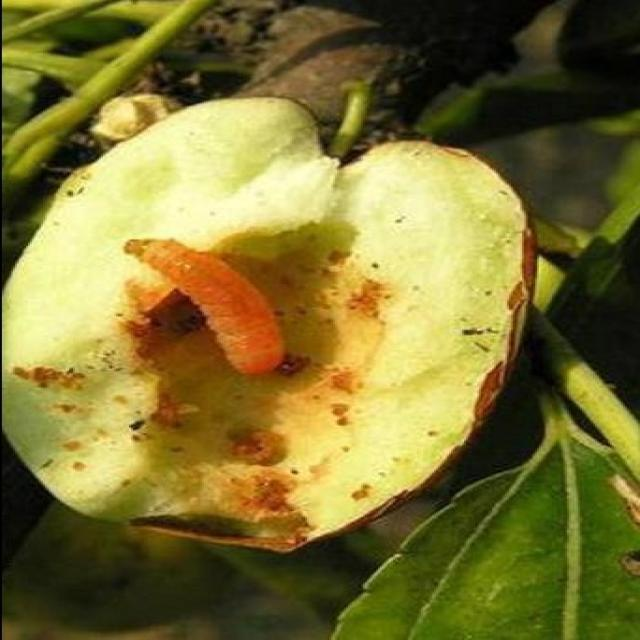peach borer: (105, 237, 297, 375)
